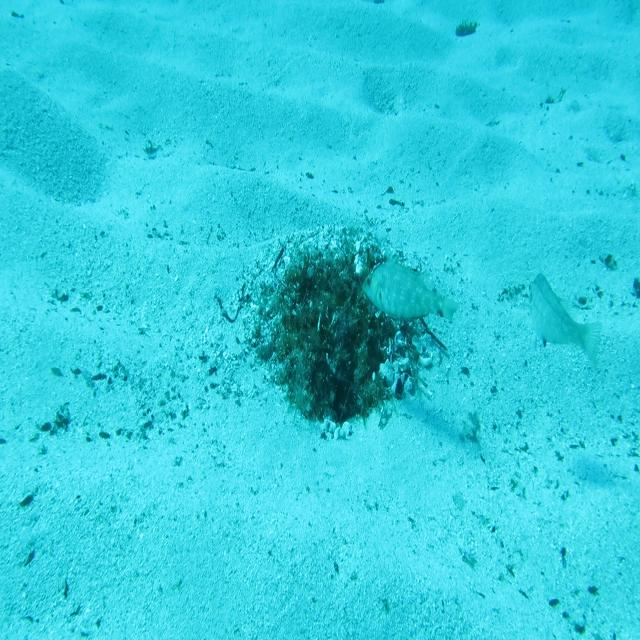ROLL: (361, 246, 461, 324)
core_nest: (309, 272, 358, 311)
female: (527, 270, 604, 367)
nest: (228, 218, 440, 452)
vegetation: (453, 20, 477, 40)
